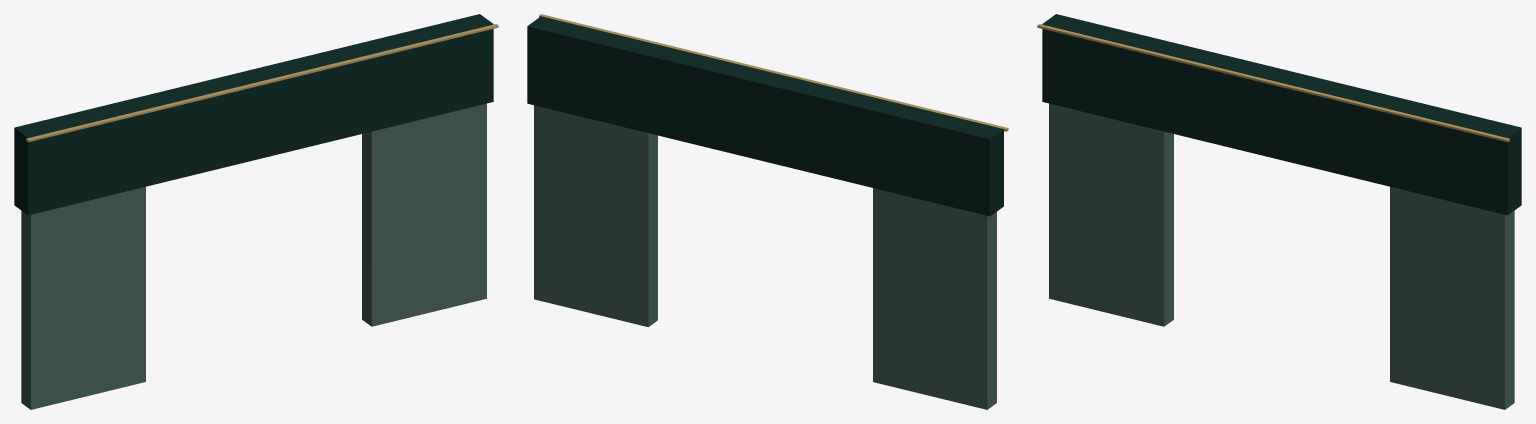
The model's file is GJH_STF_002.glb.
3 views of the same model, side by side, from view 1: azimuth 30°, elevation 25°; view 2: azimuth 150°, elevation 25°; view 3: azimuth 330°, elevation 25° (orthographic).
Visible parts, largest first — view 1: GJH-STF-002_visual; view 2: GJH-STF-002_visual; view 3: GJH-STF-002_visual.
Boxes of the visible parts, x1,y1,x2,y2 form: GJH-STF-002_visual: [14, 14, 498, 409]; GJH-STF-002_visual: [527, 14, 1008, 409]; GJH-STF-002_visual: [1037, 14, 1521, 409].
Bounding box in the file's own units: 9.8 × 5.47 × 0.59.
